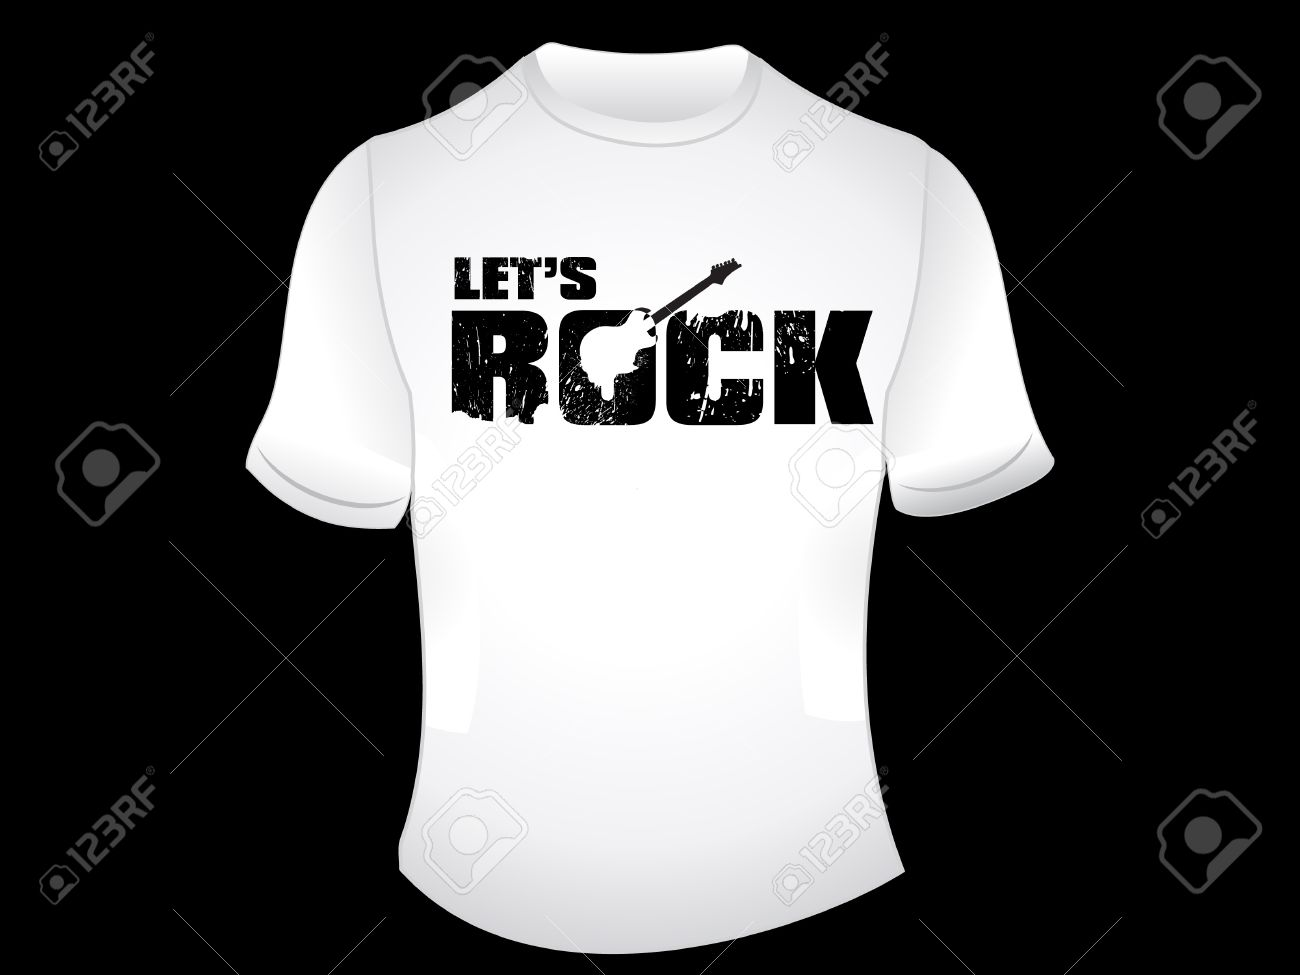T-Shirt: (239, 35, 1061, 957)
